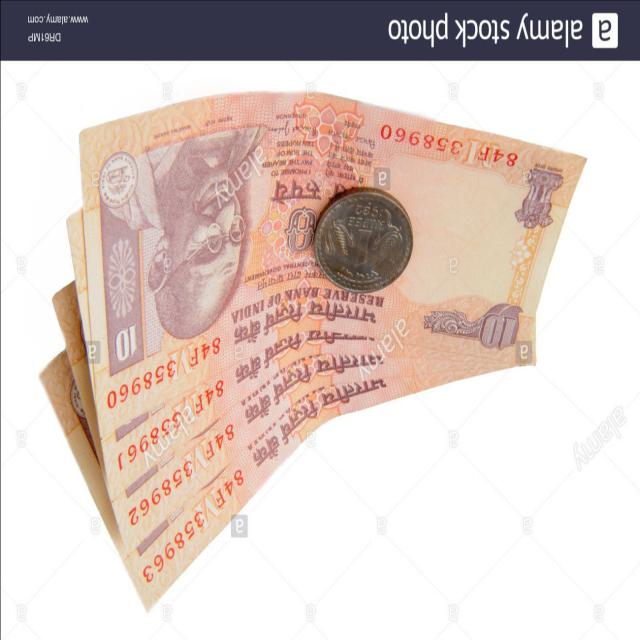10IndianRupees: (77, 101, 582, 395)
